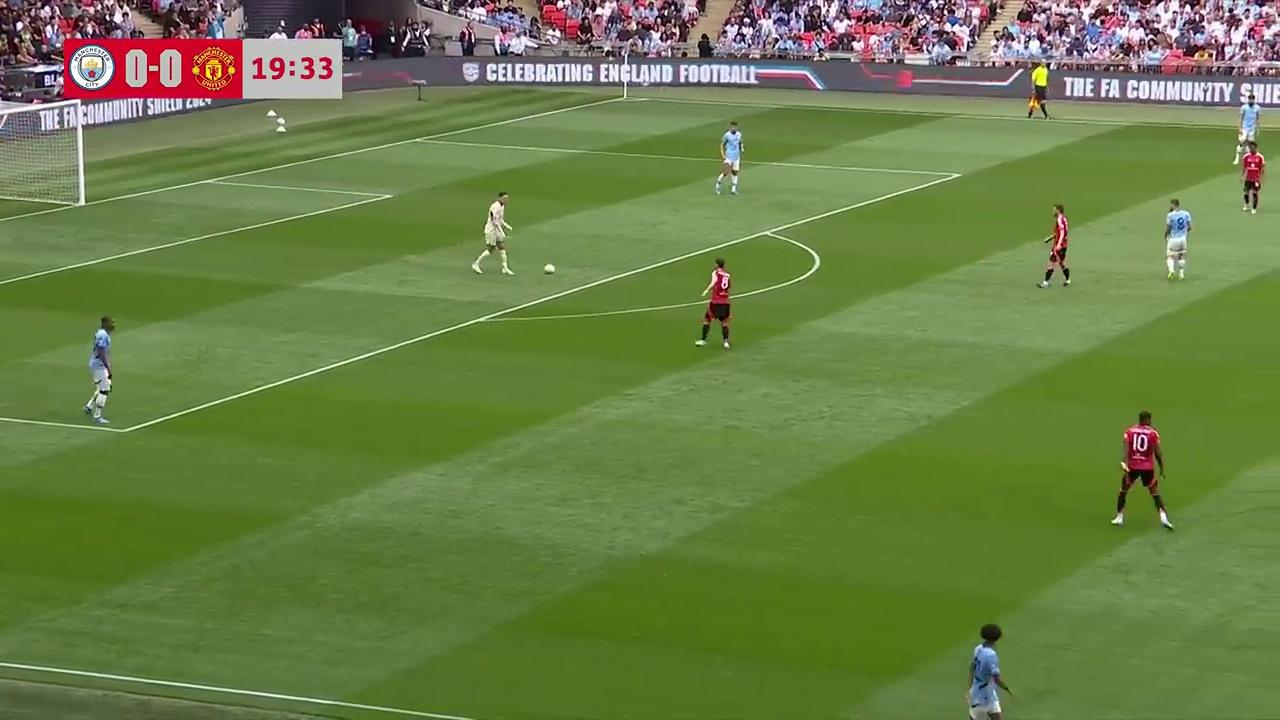ball: (542, 260, 556, 276)
player: (1110, 411, 1175, 529), (964, 623, 1014, 720), (85, 315, 121, 428), (472, 196, 514, 276), (695, 259, 732, 349), (1037, 204, 1071, 288), (1163, 198, 1193, 281), (715, 120, 744, 195), (1239, 142, 1265, 214), (1235, 103, 1259, 162)
referee: (1026, 63, 1050, 120)
